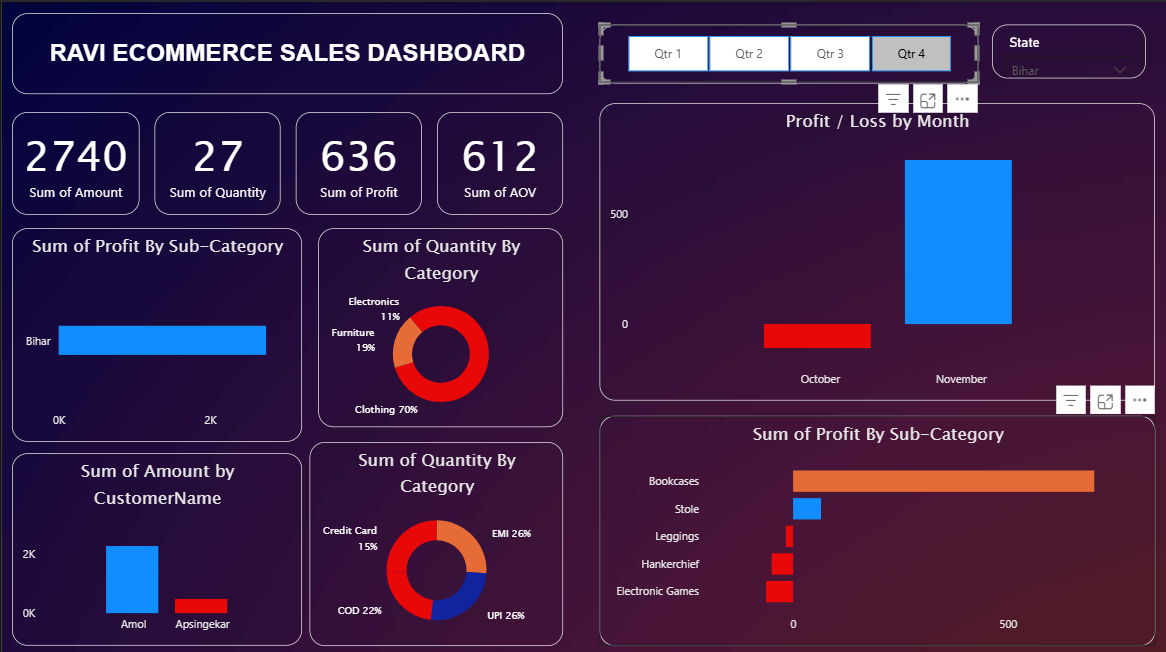

What the dashboard file says about the page in this screenshot:
{"tool":"powerbi","page":{"name":"Page 1","canvas":[1280,720],"ordinal":0},"visuals":[{"type":"columnChart","title":" Profit / Loss by Month","fields":{"Category":["Orders.Order Date.Variation.Date Hierarchy.Month"],"Y":["Sum(Details.Profit)"]},"box":[655.9,111.1,609.3,326.6],"z":0},{"type":"barChart","title":"Sum of Profit By Sub-Category","fields":{"Y":["Sum(Details.Profit)"],"Category":["Details.Sub-Category"]},"box":[655.9,454.2,610.6,252.5],"z":1000},{"type":"donutChart","title":"Sum of Quantity By Category","fields":{"Y":["Sum(Details.Quantity)"],"Category":["Details.Category"]},"box":[347.2,248.4,269,218.2],"z":2000},{"type":"donutChart","title":"Sum of Quantity By Category","fields":{"Y":["Sum(Details.Quantity)"],"Category":["Details.PaymentMode"]},"box":[337.6,483,278.6,223.7],"z":3000},{"type":"card","title":"Sum of Quantity By Category","fields":{"Values":["Sum(Details.Amount)"]},"box":[11,120.8,140,112.5],"z":4000},{"type":"card","title":"Sum of Quantity By Category","fields":{"Values":["Sum(Details.Quantity)"]},"box":[167,120.8,138.6,112.5],"z":5000},{"type":"card","title":"Sum of Quantity By Category","fields":{"Values":["Sum(Details.Profit)"]},"box":[322,120.8,138.6,112.5],"z":6000},{"type":"card","title":"Sum of Quantity By Category","fields":{"Values":["Sum(Details.AOV)"]},"box":[477.5,120.8,138.6,112.5],"z":7000},{"type":"barChart","title":"Sum of Profit By Sub-Category","fields":{"Category":["Orders.State"],"Y":["Sum(Details.Amount)"]},"box":[11,248.4,318.4,234.6],"z":8000},{"type":"columnChart","fields":{"Category":["Orders.CustomerName"],"Y":["Sum(Details.Amount)"]},"box":[11,495.4,318.4,211.3],"z":9000},{"type":"textbox","box":[11,12.3,605.1,89.2],"z":10000},{"type":"slicer","fields":{"Values":["Orders.Order Date.Variation.Date Hierarchy.Quarter"]},"box":[655.9,24.7,415.8,64.5],"z":11000},{"type":"slicer","fields":{"Values":["Orders.State"]},"box":[1086.8,24.7,168.8,59],"z":12000}]}

Visuals, with their boxes in screenshot pixels (x1, y1, x2, y2), scaled from the page's 1280x720 canvas onto the 1166x652 screenshot:
" Profit / Loss by Month" columnChart: x1=597, y1=101, x2=1153, y2=396
"Sum of Profit By Sub-Category" barChart: x1=597, y1=411, x2=1154, y2=640
"Sum of Quantity By Category" donutChart: x1=316, y1=225, x2=561, y2=423
"Sum of Quantity By Category" donutChart: x1=308, y1=437, x2=561, y2=640
"Sum of Quantity By Category" card: x1=10, y1=109, x2=138, y2=211
"Sum of Quantity By Category" card: x1=152, y1=109, x2=278, y2=211
"Sum of Quantity By Category" card: x1=293, y1=109, x2=420, y2=211
"Sum of Quantity By Category" card: x1=435, y1=109, x2=561, y2=211
"Sum of Profit By Sub-Category" barChart: x1=10, y1=225, x2=300, y2=437
columnChart - Orders.CustomerName x Sum(Details.Amount): x1=10, y1=449, x2=300, y2=640
textbox: x1=10, y1=11, x2=561, y2=92
slicer - Orders.Order Date.Variation.Date Hierarchy.Quarter: x1=597, y1=22, x2=976, y2=81
slicer - Orders.State: x1=990, y1=22, x2=1144, y2=76
